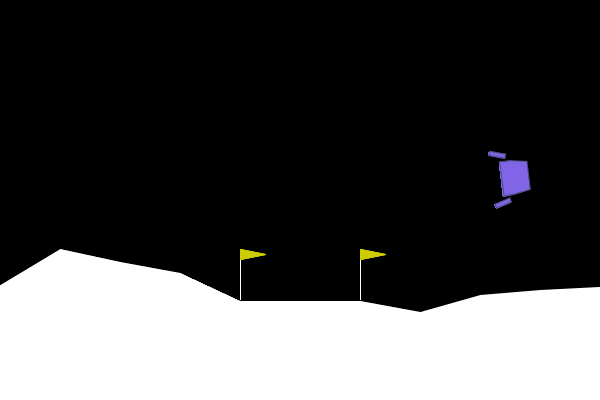lander: (487, 146, 534, 210)
